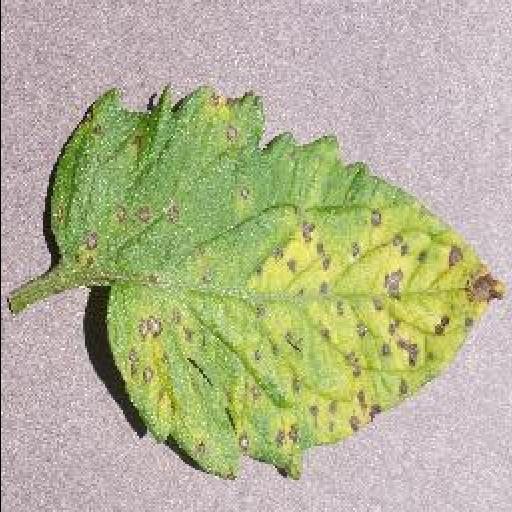disease_tomato: (44, 83, 504, 479)
